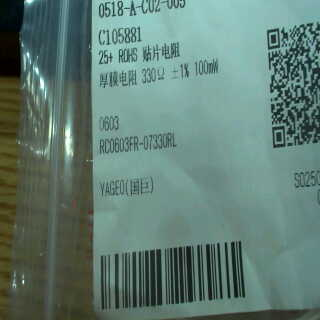330R: (138, 62, 167, 85)
